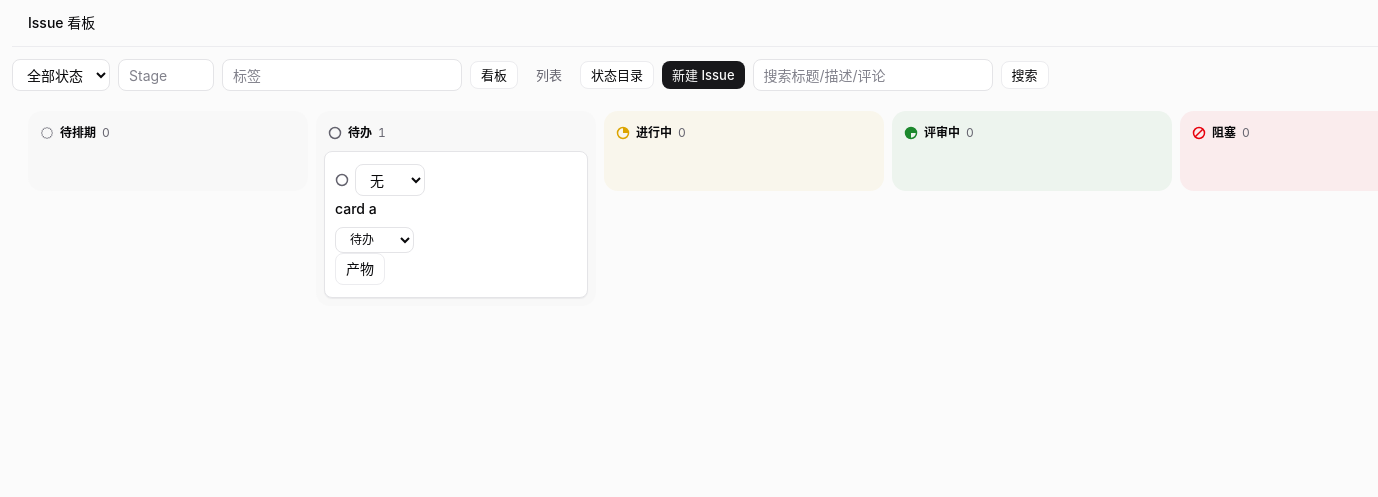
BoardPage › lists workflow artifacts on a card with their run logs
Click the button with test id "toggle-artifacts-a" at (360, 269), box [335, 253, 385, 285]
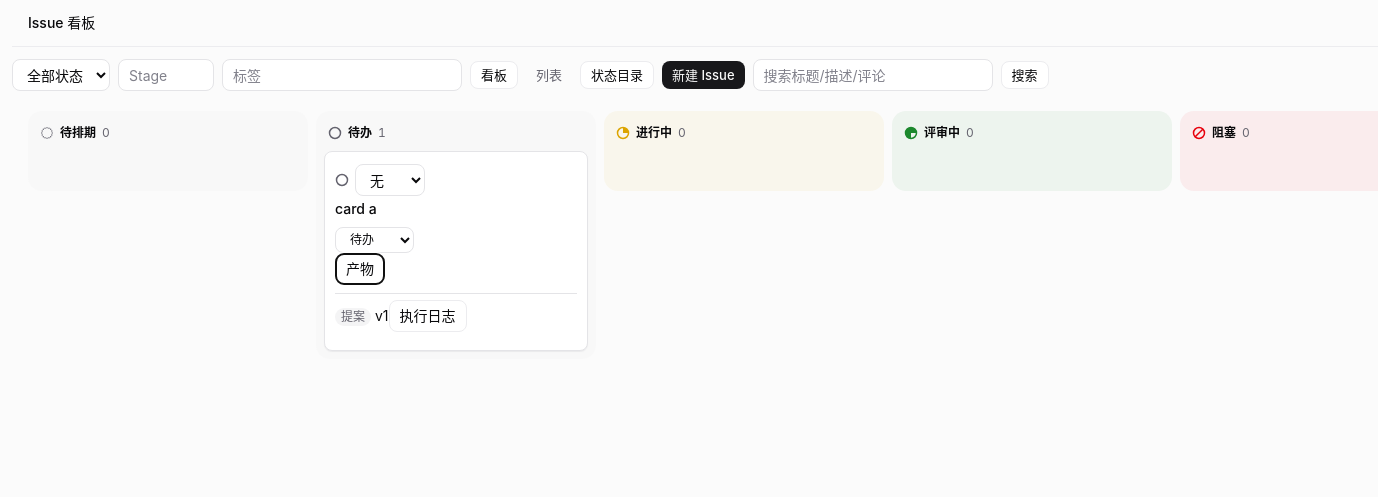
Expected: the text "提案" is shown, [335, 308, 371, 326]
Click the button with test id "logs-art1" at (428, 316), box [388, 300, 466, 332]
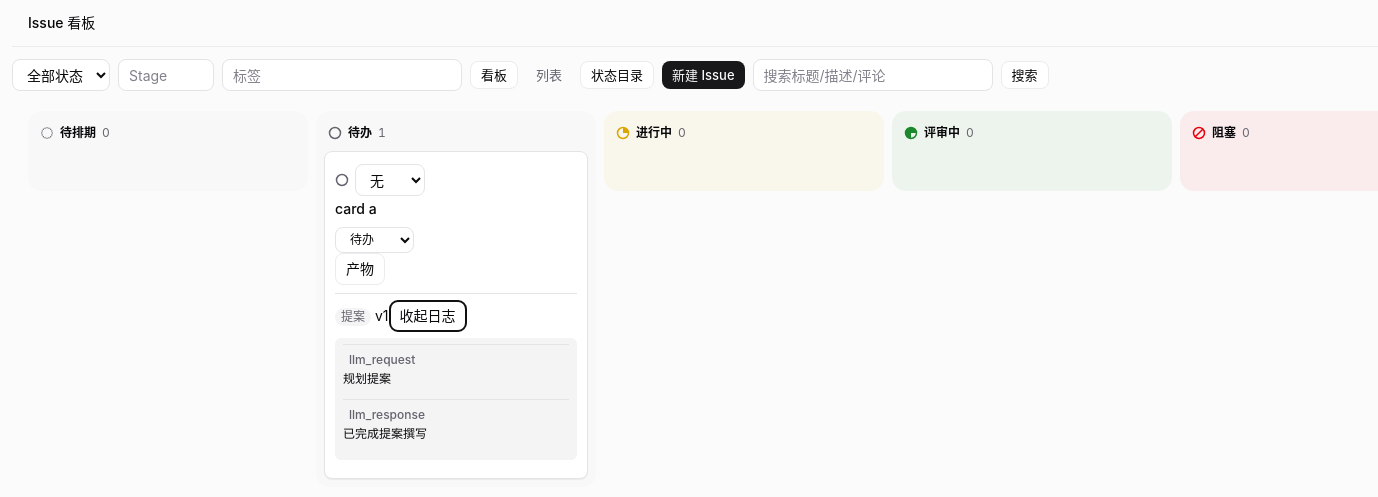
Expected: the text "已完成提案撰写" is shown, [343, 427, 427, 441]
